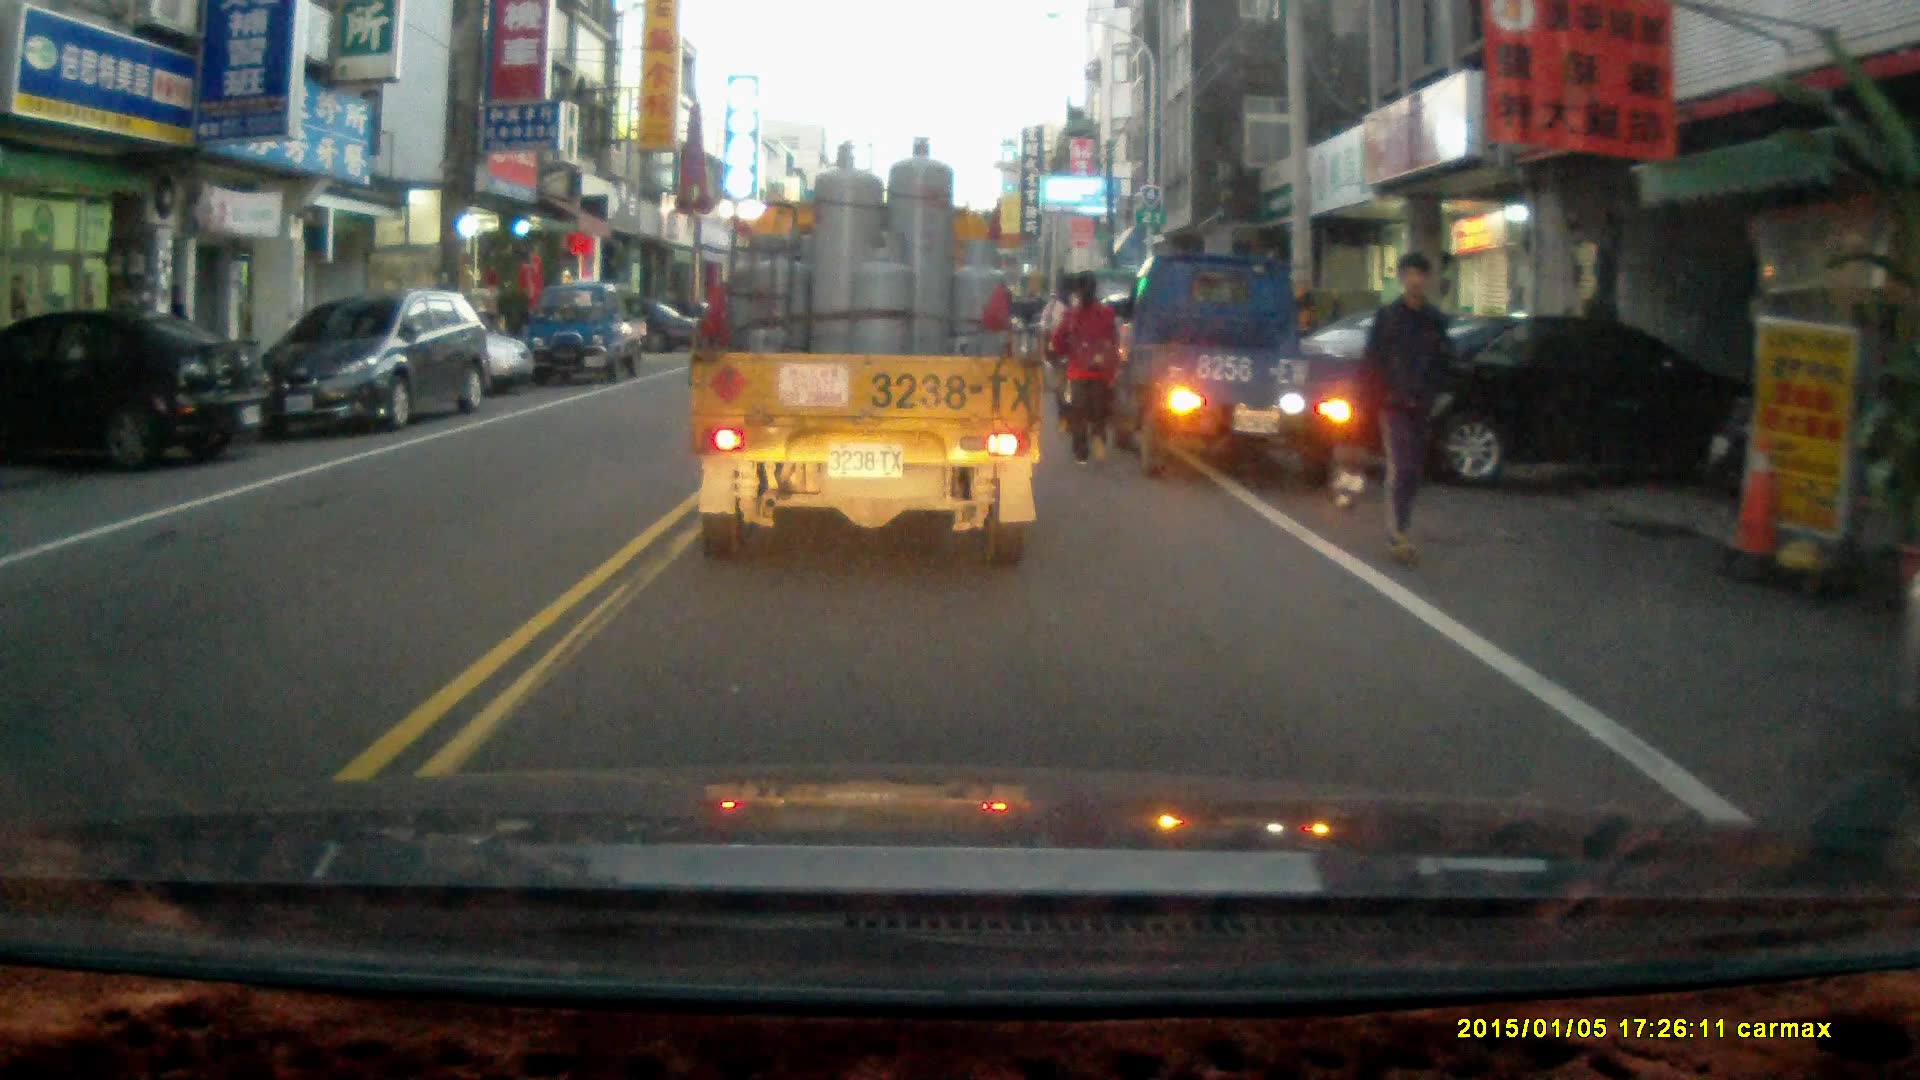pedestrian: (1353, 250, 1453, 561), (1049, 267, 1122, 463)
vehicle: (686, 138, 1050, 572), (1347, 307, 1682, 492), (1120, 252, 1374, 483), (1, 306, 271, 478), (246, 285, 501, 436), (529, 277, 653, 384)
